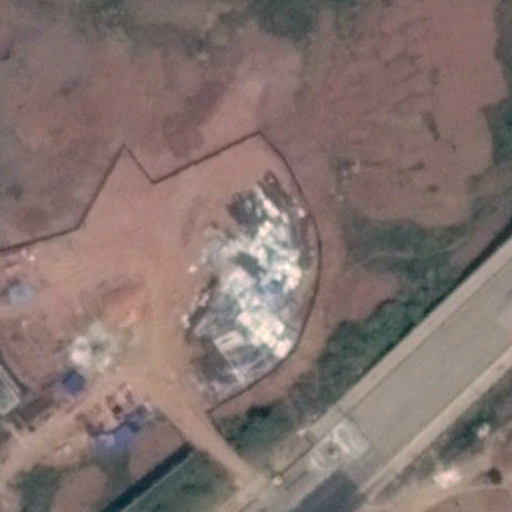msw: (183, 177, 315, 397)
